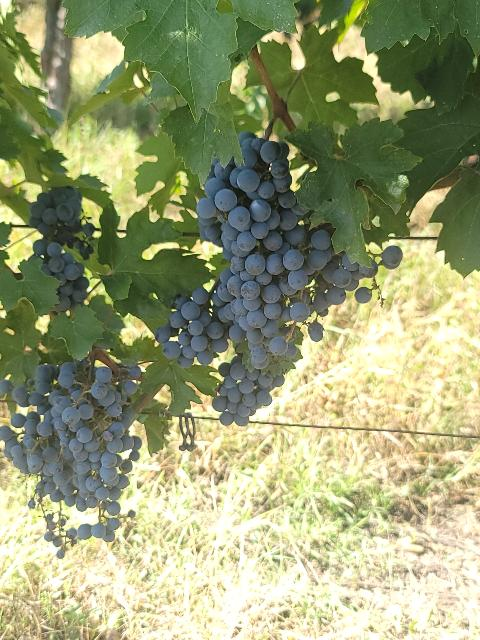grapes: (196, 132, 311, 329), (0, 358, 141, 515), (29, 186, 95, 312)
